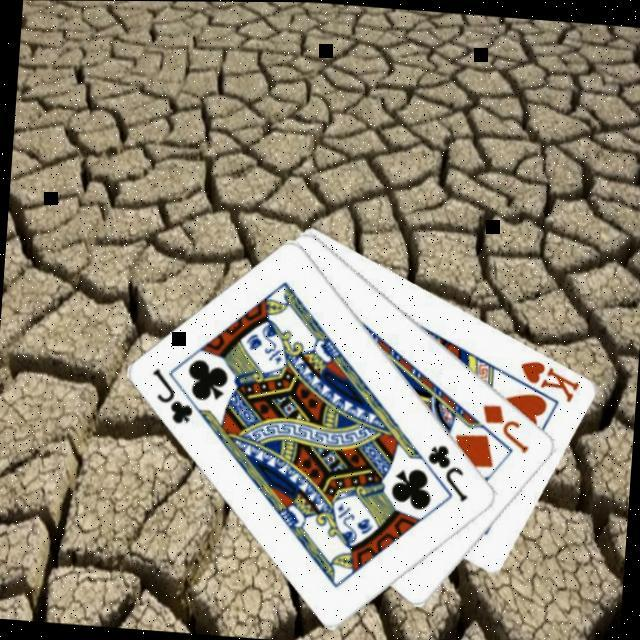JC: (144, 361, 198, 426), (420, 437, 472, 502)
JD: (474, 396, 534, 454)
KH: (514, 352, 582, 402)
